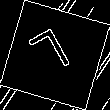L_SE: (29, 26, 81, 84)
